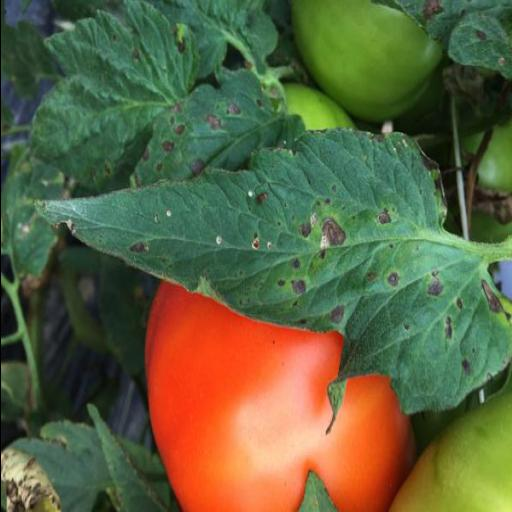disease_tomato: (38, 127, 512, 421)
